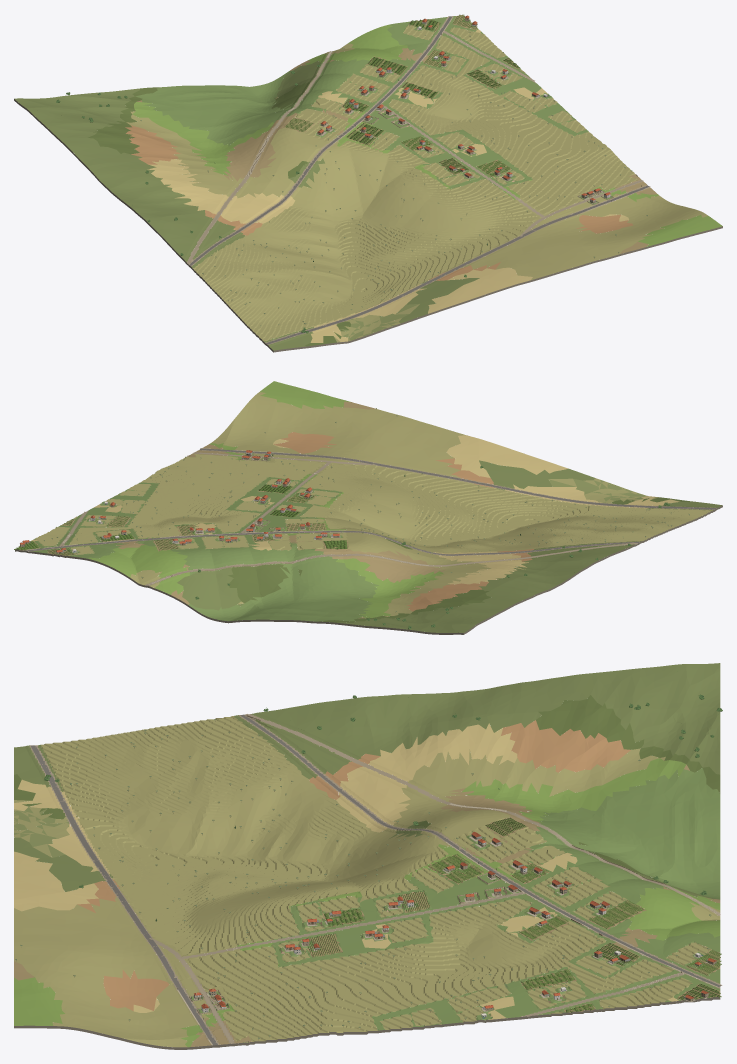
Rendered from parca_+10_-7-yakin.glb.
The picture shows the model from 3 angles, top to bottom: view 1: azimuth 30°, elevation 25°; view 2: azimuth 150°, elevation 25°; view 3: azimuth 270°, elevation 25°; orthographic projection. The views are drawn at different scales.
Visible parts, largest first — view 1: parca_+10_-7_arazi, parca_+10_-7_yollar, parca_+10_-7_asma, parca_+10_-7_yapilar, parca_+10_-7_bitkiler; view 2: parca_+10_-7_arazi, parca_+10_-7_yollar, parca_+10_-7_asma, parca_+10_-7_yapilar, parca_+10_-7_bitkiler; view 3: parca_+10_-7_arazi, parca_+10_-7_yollar, parca_+10_-7_asma, parca_+10_-7_yapilar, parca_+10_-7_bitkiler.
Part boxes in pixels (x1=…): parca_+10_-7_arazi: x1=14, y1=15, x2=722, y2=352; parca_+10_-7_yollar: x1=187, y1=16, x2=650, y2=344; parca_+10_-7_asma: x1=285, y1=14, x2=519, y2=176; parca_+10_-7_yapilar: x1=316, y1=15, x2=610, y2=203; parca_+10_-7_bitkiler: x1=56, y1=24, x2=647, y2=333; parca_+10_-7_arazi: x1=15, y1=381, x2=722, y2=634; parca_+10_-7_yollar: x1=27, y1=448, x2=715, y2=585; parca_+10_-7_asma: x1=14, y1=484, x2=347, y2=555; parca_+10_-7_yapilar: x1=19, y1=450, x2=340, y2=553; parca_+10_-7_bitkiler: x1=44, y1=408, x2=689, y2=629; parca_+10_-7_arazi: x1=14, y1=663, x2=720, y2=1049; parca_+10_-7_yollar: x1=30, y1=714, x2=722, y2=1045; parca_+10_-7_asma: x1=307, y1=817, x2=721, y2=1012; parca_+10_-7_yapilar: x1=194, y1=832, x2=716, y2=1018; parca_+10_-7_bitkiler: x1=15, y1=671, x2=722, y2=1039.
Size of the model in its own units: 1010 by 158 by 1004.
